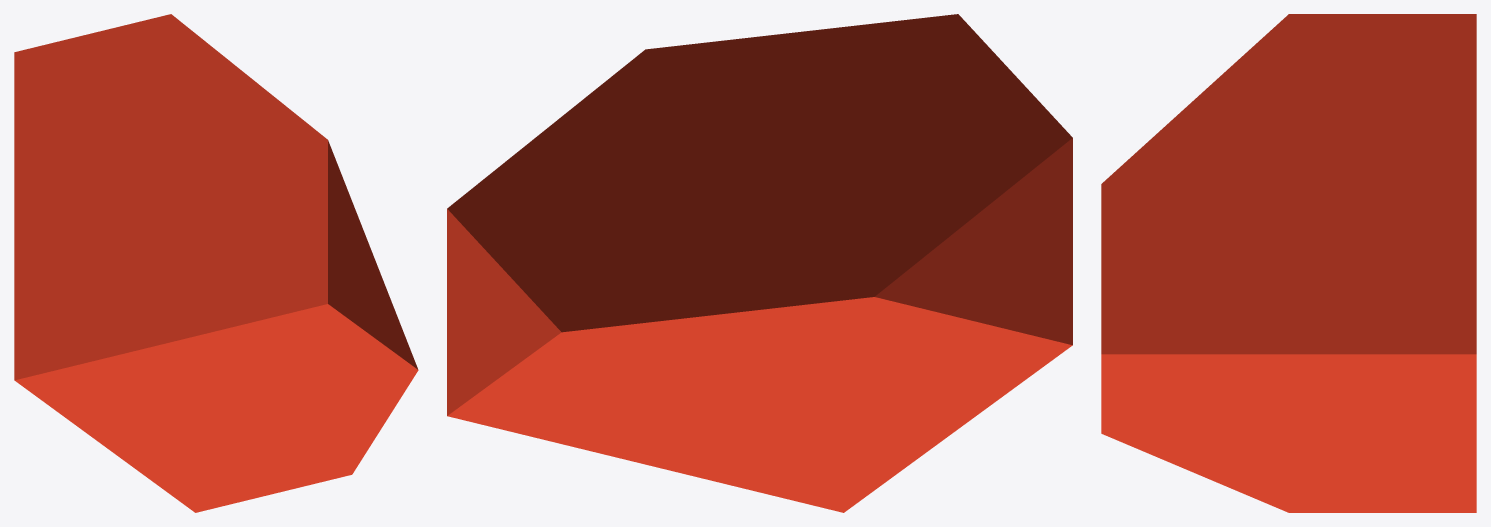
The model's file is r5c7_border_red.gltf.
3 renders of one model, left to right at view 1: azimuth 30°, elevation 25°; view 2: azimuth 150°, elevation 25°; view 3: azimuth 270°, elevation 25°, orthographic. The views are drawn at different scales.
Visible parts, largest first — view 1: r5c7_border_red; view 2: r5c7_border_red; view 3: r5c7_border_red.
Part boxes in pixels (x1,y1,x2,y2): r5c7_border_red: [14, 14, 418, 512]; r5c7_border_red: [447, 14, 1072, 512]; r5c7_border_red: [1101, 14, 1476, 512].
Bounding box in the file's own units: 2.1 × 2.1 × 2.1.
1 material, 1 textured.
